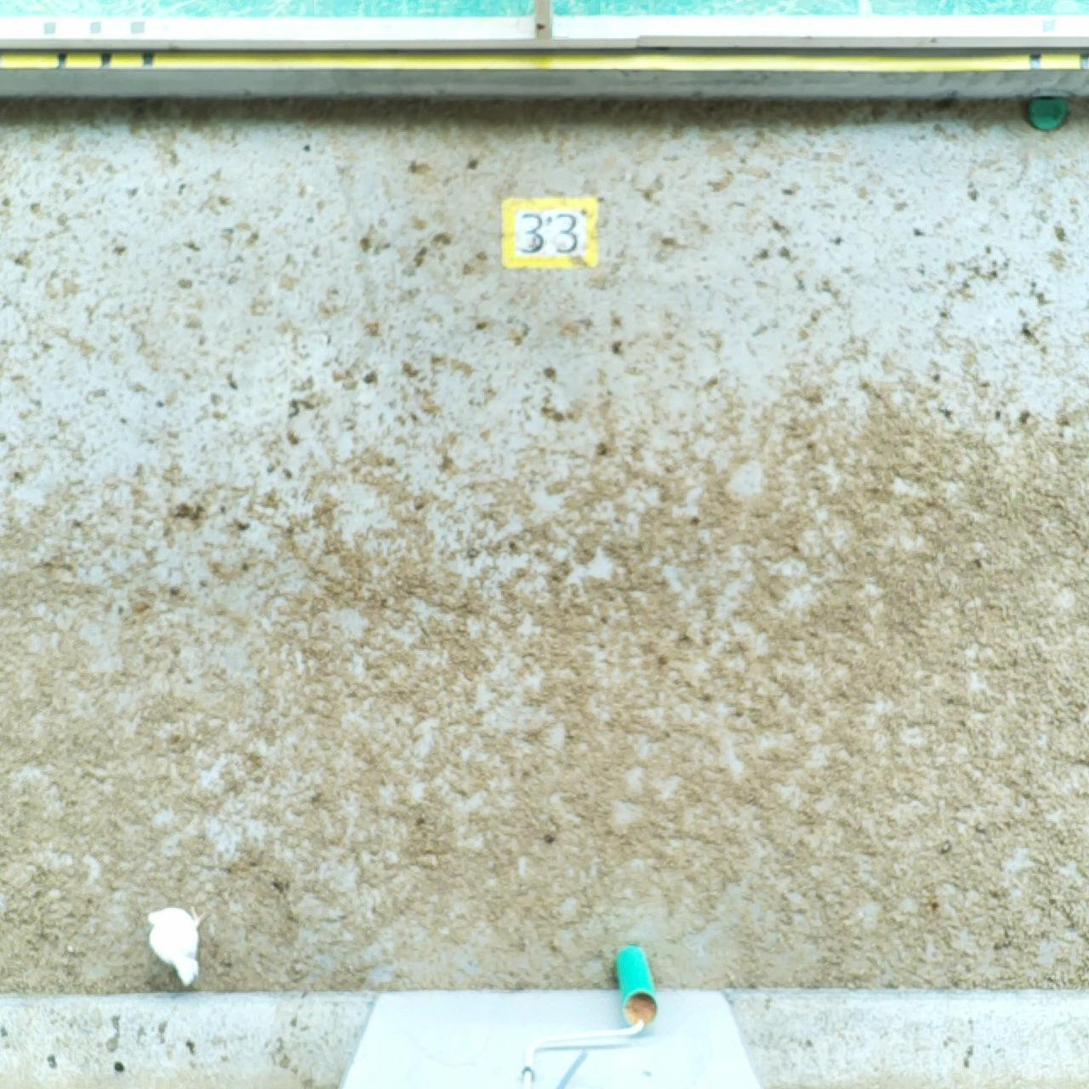chicken: (125, 905, 236, 1002)
